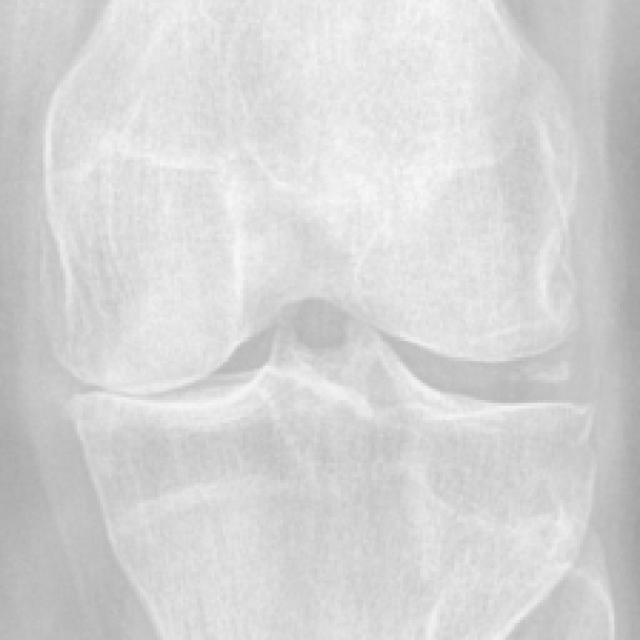femur: (42, 1, 577, 394)
tibia: (73, 321, 594, 640)
